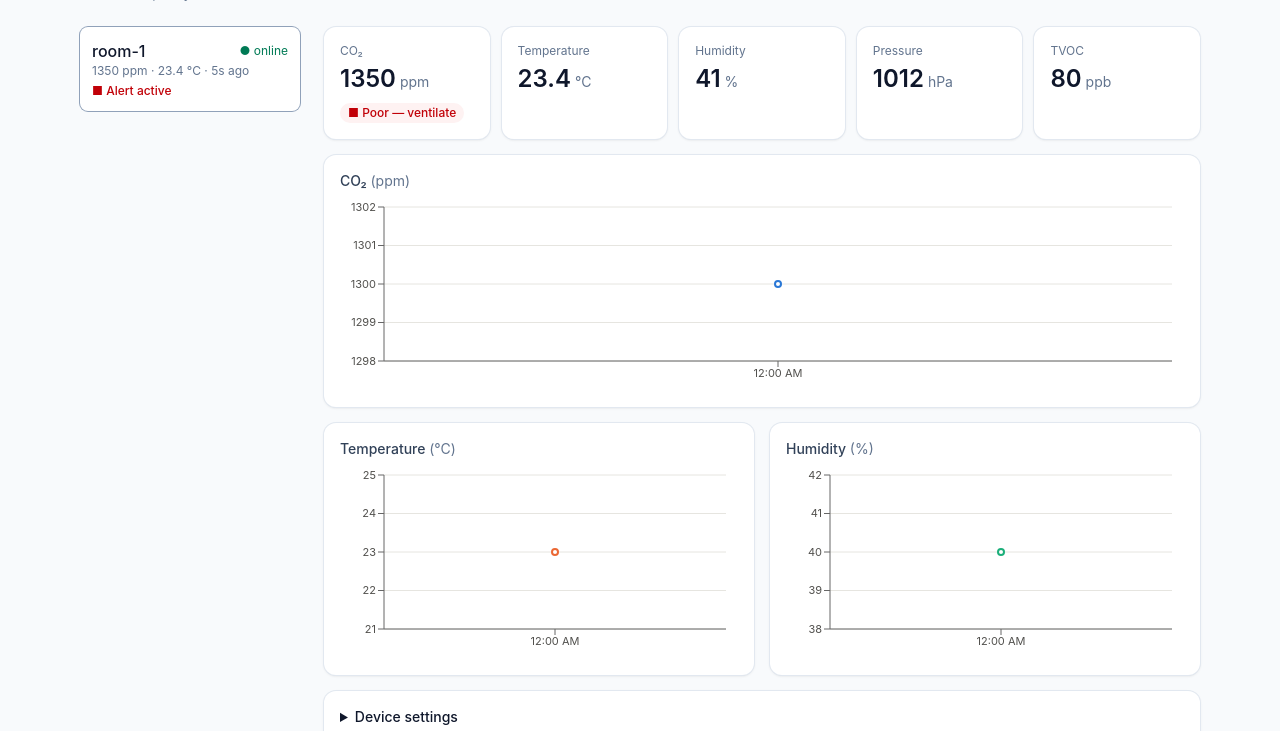
Test: dashboard › sends config with the admin token and shows server errors
Expected: the text "1350" is shown, [340, 64, 396, 93]
Step 1. Click the heading "Device settings" → coordinates (406, 716), box [355, 708, 458, 725]
(page scrolled)
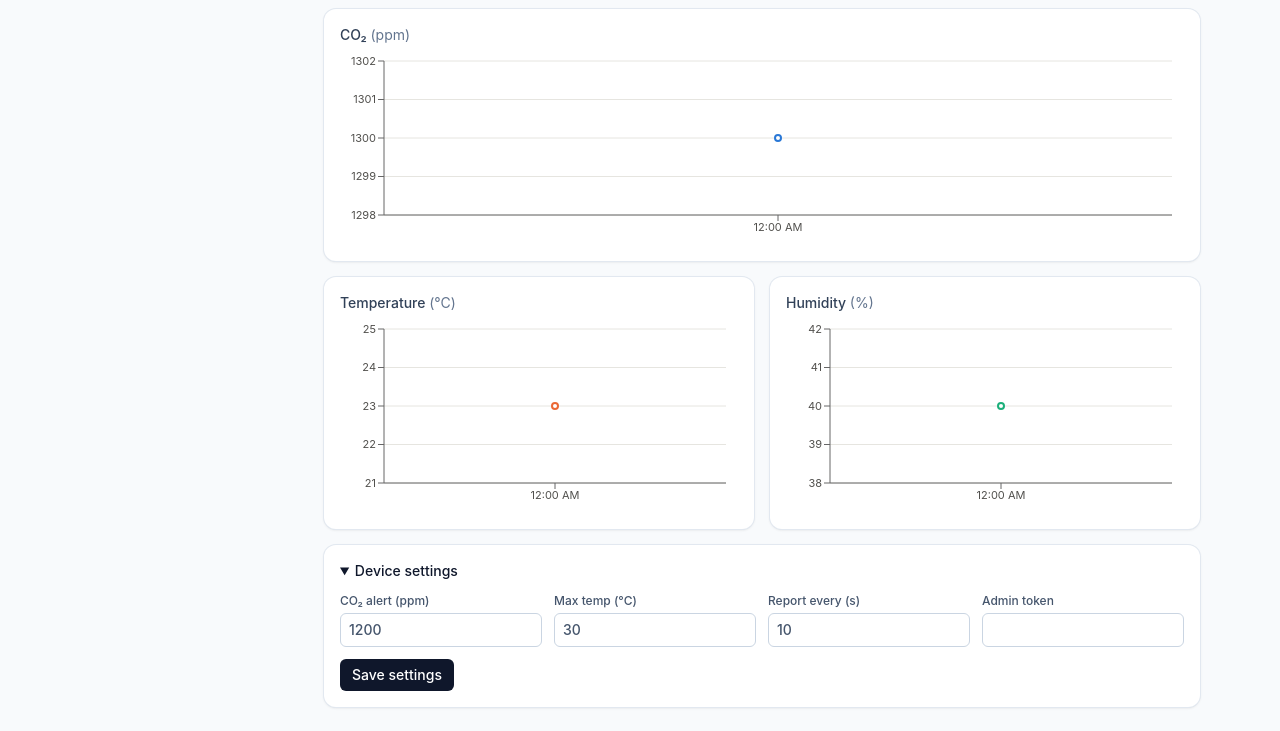
Step 2. Type "wrong" into the password field labelled "Admin token" → coordinates (1083, 630), box [982, 613, 1184, 647]
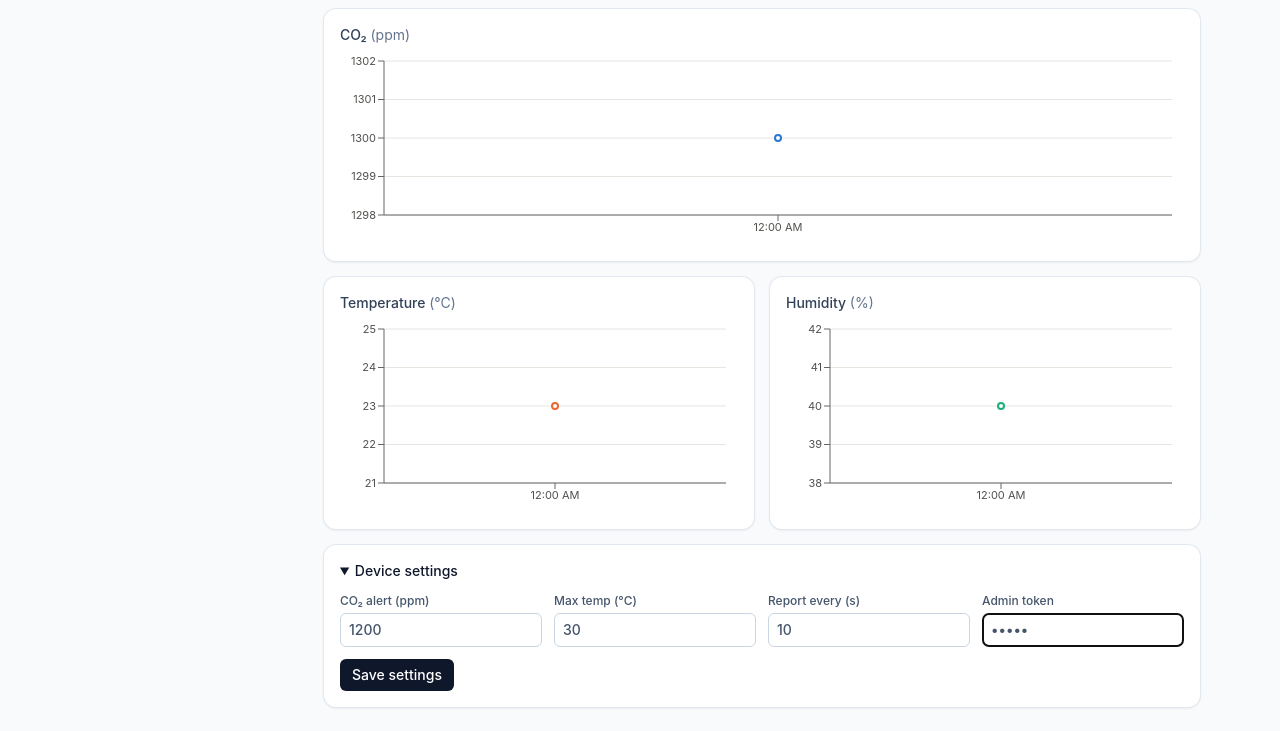
Step 3. Click the button "Save settings" → coordinates (397, 675), box [340, 659, 454, 691]
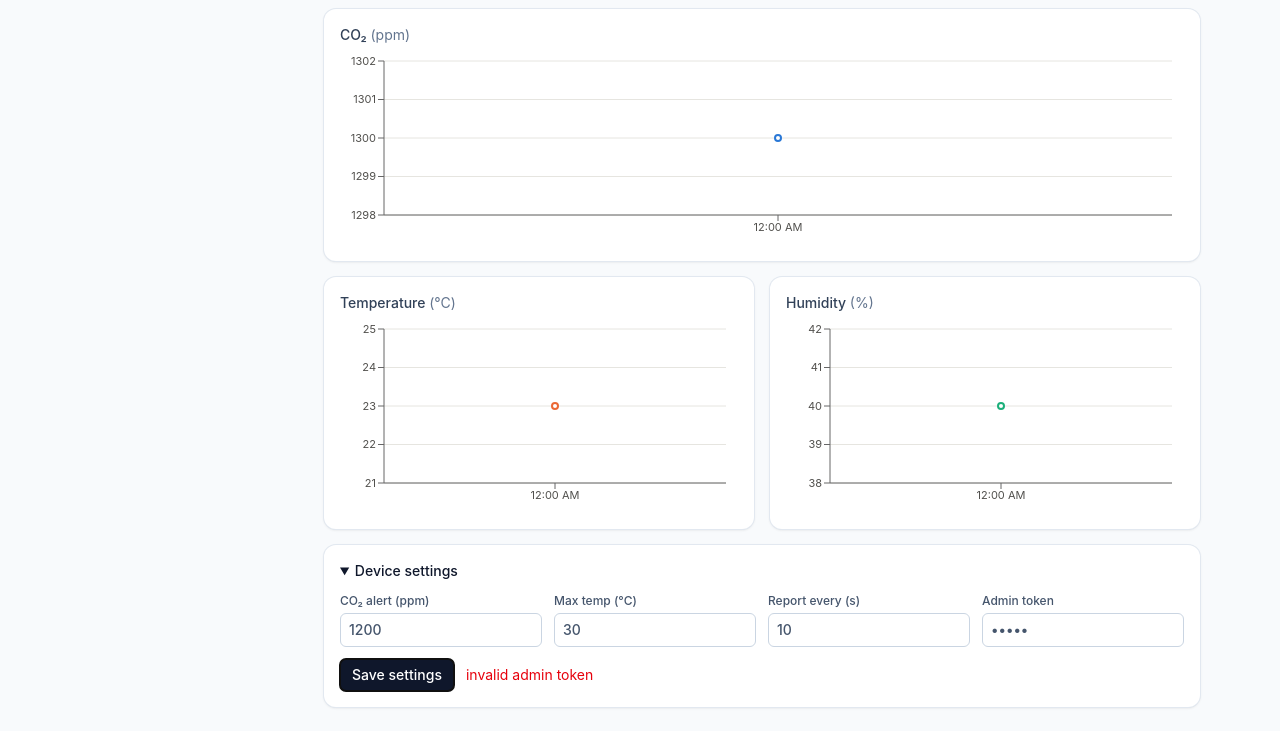
Result: the message reads "invalid admin token" at [466, 666, 593, 683]
